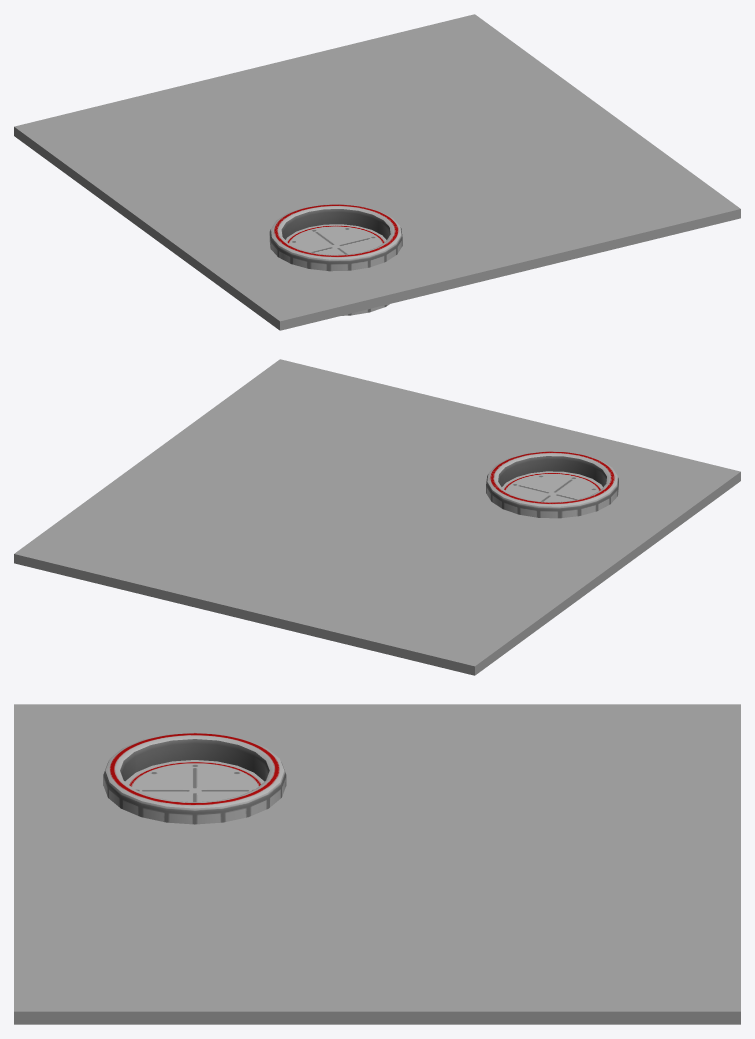
File: Start_floor.fbx
3 views of the same model, one above another, from view 1: azimuth 30°, elevation 25°; view 2: azimuth 150°, elevation 25°; view 3: azimuth 270°, elevation 25° (orthographic). The views are drawn at different scales.
Parts seen in each view (by area): view 1: Floor, Shaft, Door_2, Door_1; view 2: Floor, Shaft, Door_2, Door_1; view 3: Floor, Shaft, Door_1, Door_2.
Boxes of the visible parts, bbox=[...] form: Floor: bbox=[14, 14, 740, 330]; Shaft: bbox=[269, 204, 402, 315]; Door_2: bbox=[309, 224, 386, 254]; Door_1: bbox=[286, 227, 346, 254]; Floor: bbox=[14, 359, 740, 675]; Shaft: bbox=[486, 451, 618, 518]; Door_2: bbox=[502, 471, 578, 501]; Door_1: bbox=[542, 474, 602, 501]; Floor: bbox=[14, 704, 740, 1024]; Shaft: bbox=[103, 732, 286, 824]; Door_1: bbox=[125, 760, 264, 790]; Door_2: bbox=[138, 790, 251, 802].
Bounding box in the file's own units: 23.75 × 2.82 × 23.75.
